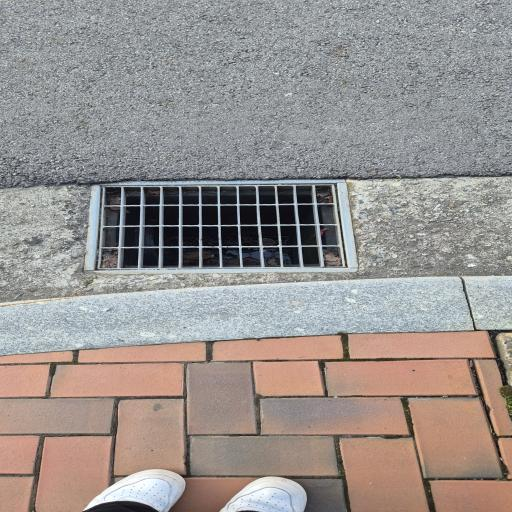debris: (324, 248, 340, 265), (101, 250, 117, 267), (317, 186, 331, 202), (106, 188, 120, 204)
drain: (84, 181, 358, 272)
